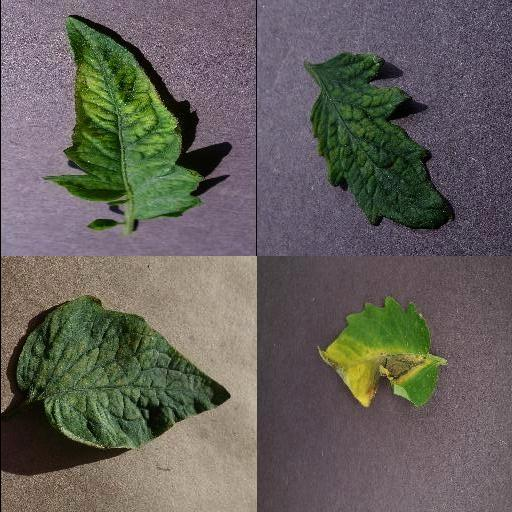Late Blight: (318, 295, 436, 411)
Mosaic Virus: (44, 15, 204, 219), (308, 52, 452, 230)
Spider Mites: (14, 296, 230, 450)
